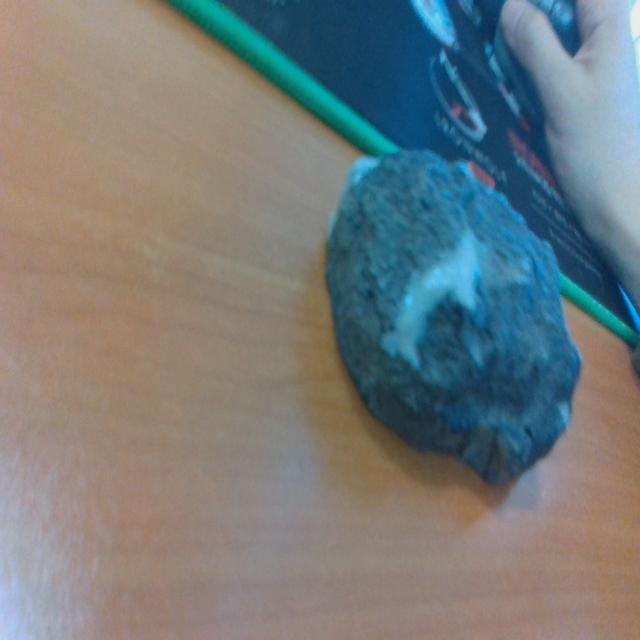stone: (321, 142, 585, 494)
